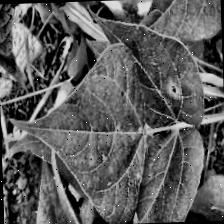ALS: (17, 36, 149, 218), (87, 0, 210, 132)
